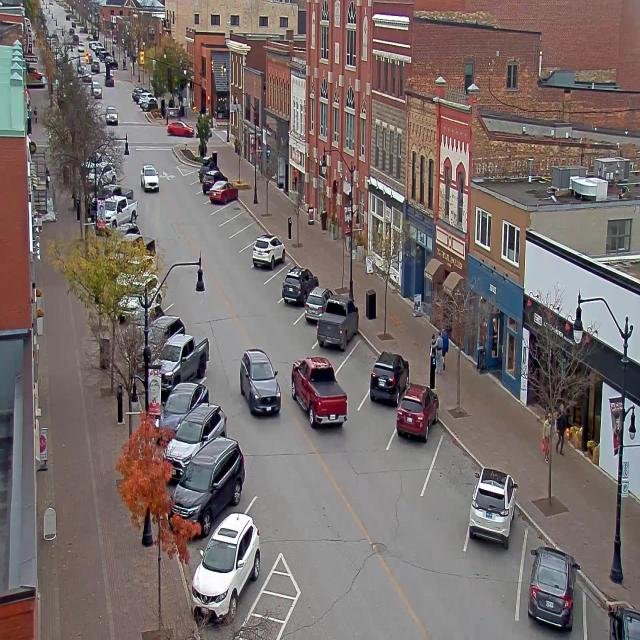available: (424, 432, 481, 522), (340, 333, 378, 392), (266, 254, 290, 294), (232, 224, 262, 245), (240, 238, 256, 273), (225, 215, 255, 233), (218, 202, 242, 218), (184, 170, 199, 186)
occupied: (169, 435, 245, 538), (183, 517, 274, 598), (527, 544, 579, 630), (468, 466, 517, 547), (154, 380, 208, 440), (393, 377, 435, 448), (156, 332, 213, 384), (170, 403, 233, 446), (586, 588, 638, 640), (316, 296, 358, 352), (368, 349, 409, 405), (282, 264, 318, 305), (252, 233, 285, 268), (306, 279, 329, 326), (209, 179, 238, 204), (202, 170, 223, 189), (198, 160, 214, 178)
